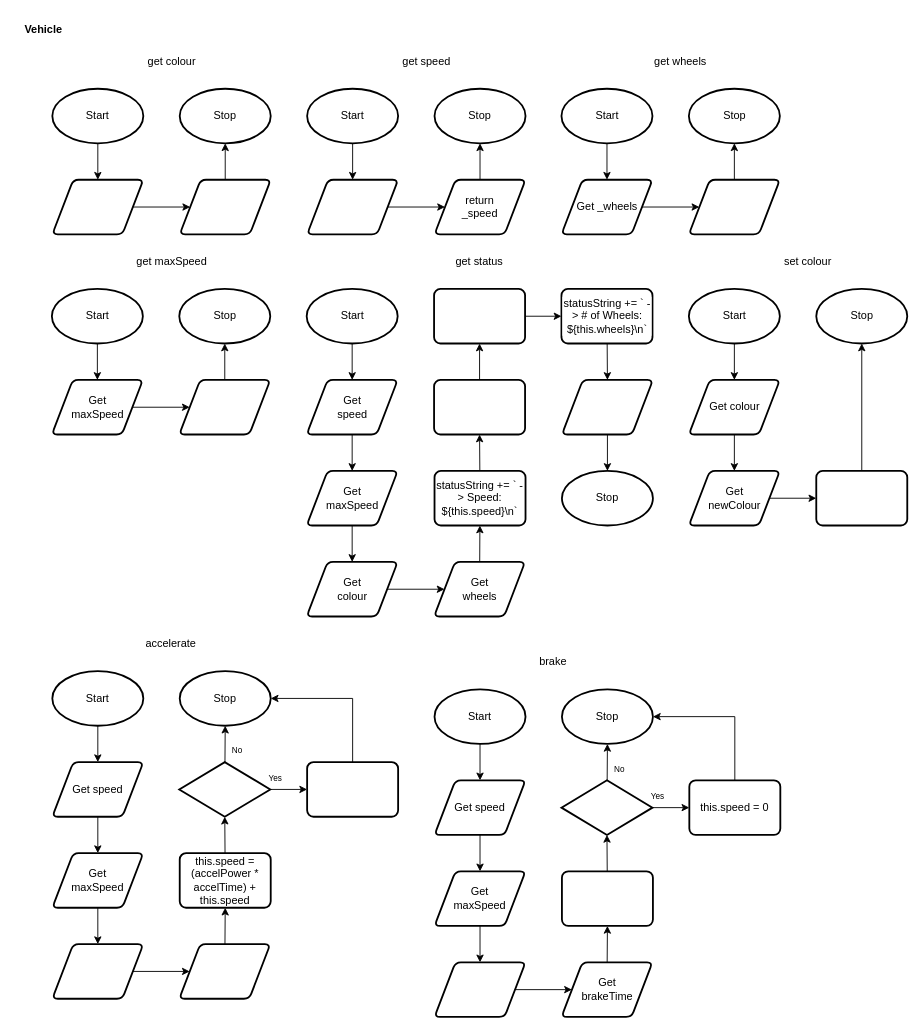
Image size: 924x1033. Some labels were removed from this diagram. Each missing label, with the centre of its shape:
"Get _colour" goes at pixel 97 206.
"Get _speed" goes at pixel 352 206.
"Get accelPower" goes at pixel 97 971.
"Get accelTime" goes at pixel 224 971.
"Get brakePower" goes at pixel 479 989.
"if (this.speed < 0)" goes at pixel 606 807.
"if (this.speed > this.maxSpeed)" goes at pixel 224 789.
"return _colour" goes at pixel 224 206.
"return _wheels" goes at pixel 734 206.
"return maxSpeed" goes at pixel 224 407.
"return statusString" goes at pixel 607 407.
"statusString += ` -> Color: ${this.colour}`" goes at pixel 479 316.
"statusString += ` -> MaxSpeed: ${this.maxSpeed}\n`" goes at pixel 479 407.
"this.colour = newColour" goes at pixel 861 498.
"this.speed = this.maxSpeed" goes at pixel 352 789.
"this.speed = this.speed - (brakePower * brakeTime)" goes at pixel 607 898.
